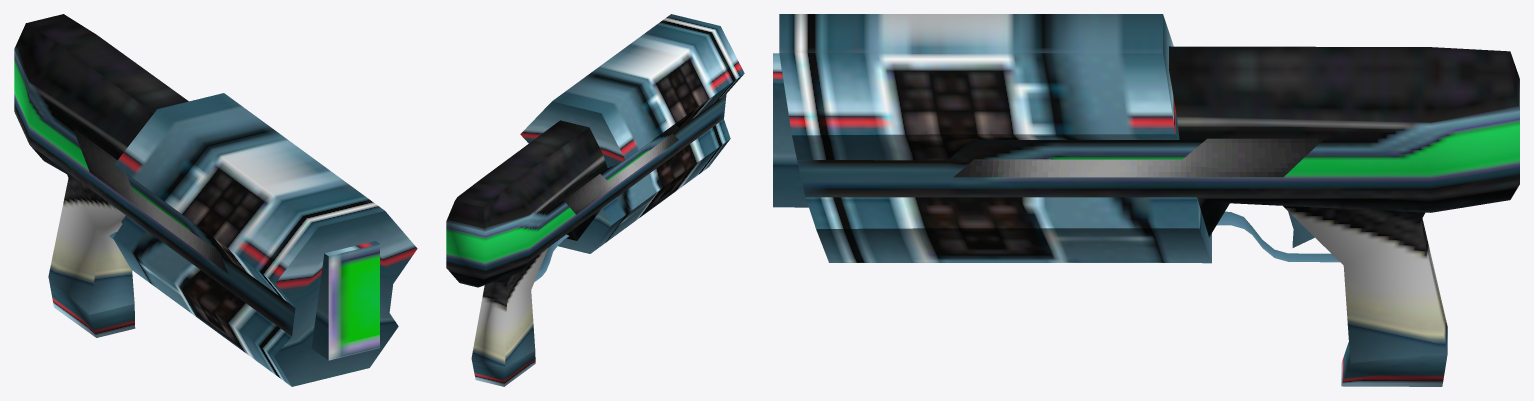
File: ItmRayGun.obj
3 renders of one model, left to right at view 1: azimuth 30°, elevation 25°; view 2: azimuth 150°, elevation 25°; view 3: azimuth 270°, elevation 25°, orthographic. The views are drawn at different scales.
Visible parts, largest first — view 1: polygon1, polygon0; view 2: polygon1, polygon0; view 3: polygon1, polygon0.
Part boxes in pixels (x1,y1,x2,y2): polygon1: (14,14,417,386); polygon0: (73,128,228,273); polygon1: (446,14,744,386); polygon0: (564,133,678,214); polygon1: (773,14,1519,386); polygon0: (953,138,1323,177).
Bounding box in the file's own units: 2.13 × 4.11 × 8.12.
2 materials, 2 textured.
